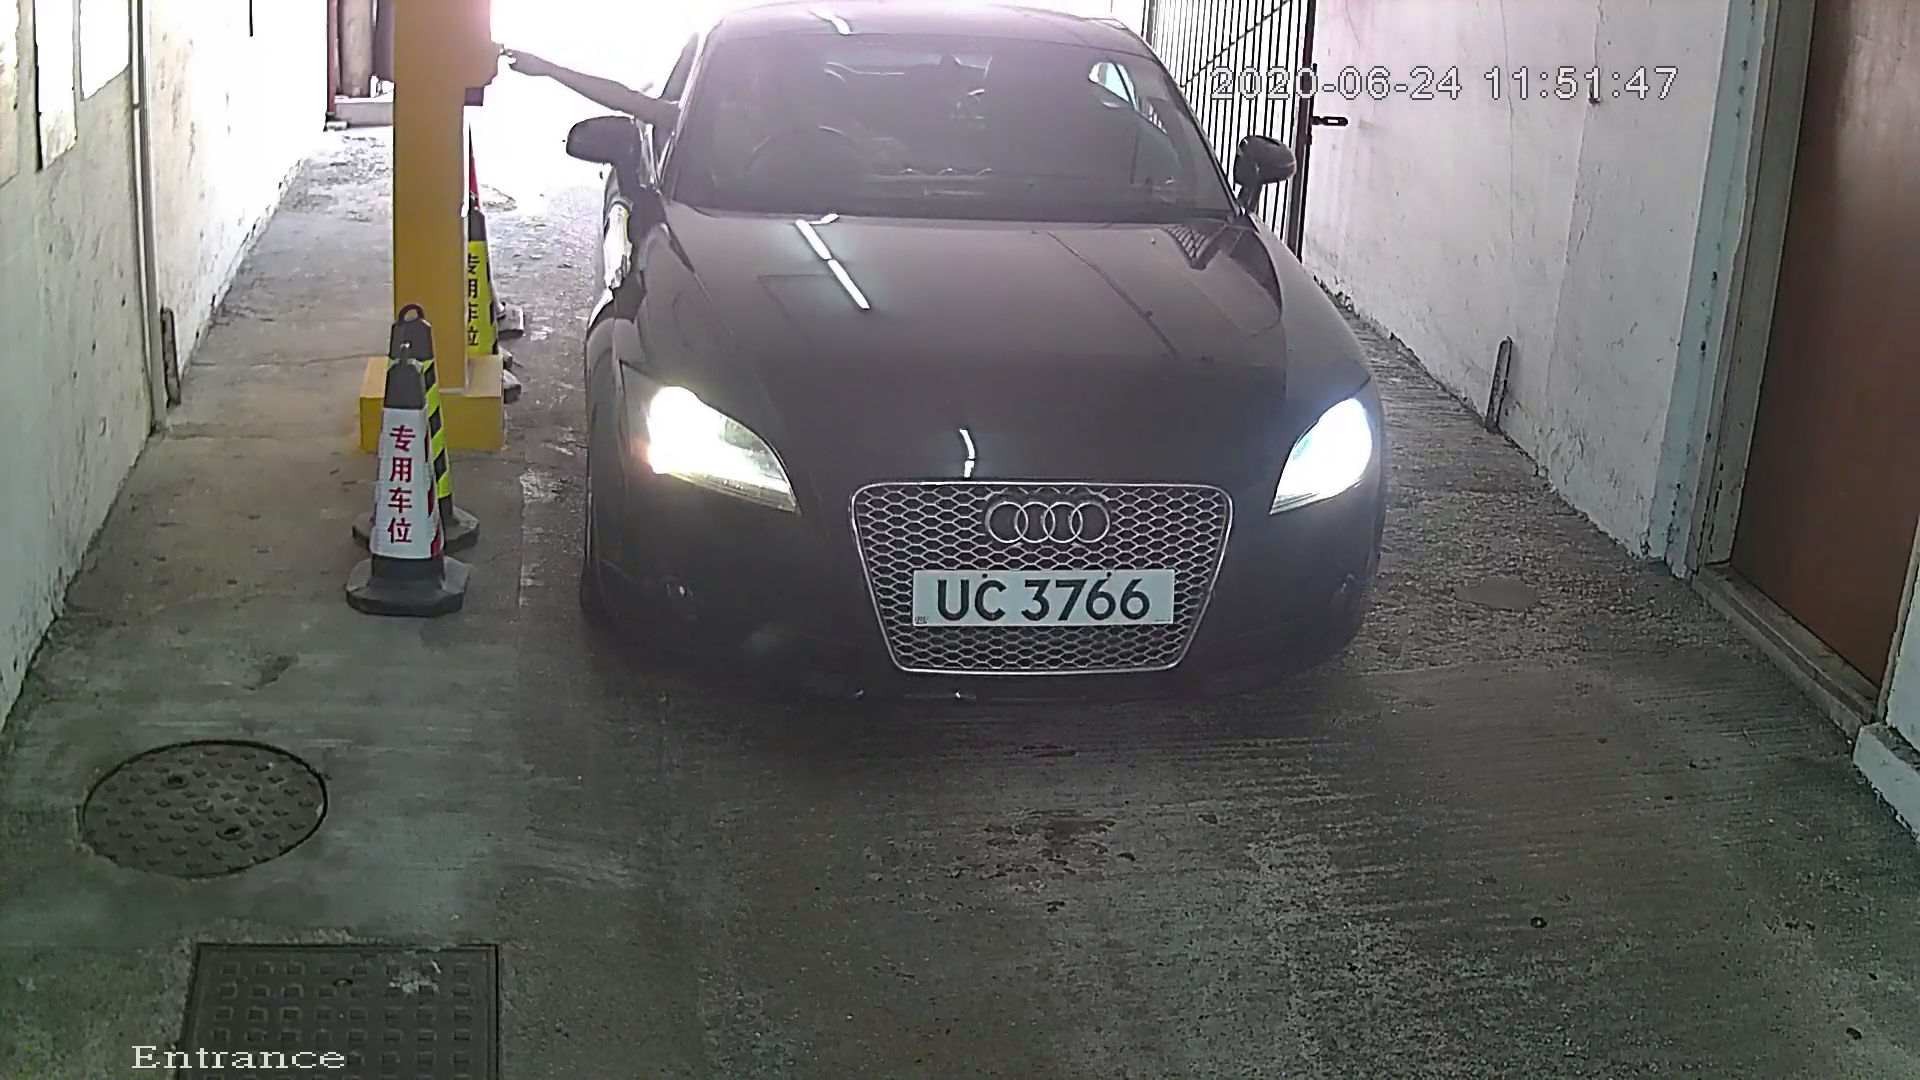Car: (541, 1, 1412, 754)
License Plate: (905, 543, 1193, 652)
